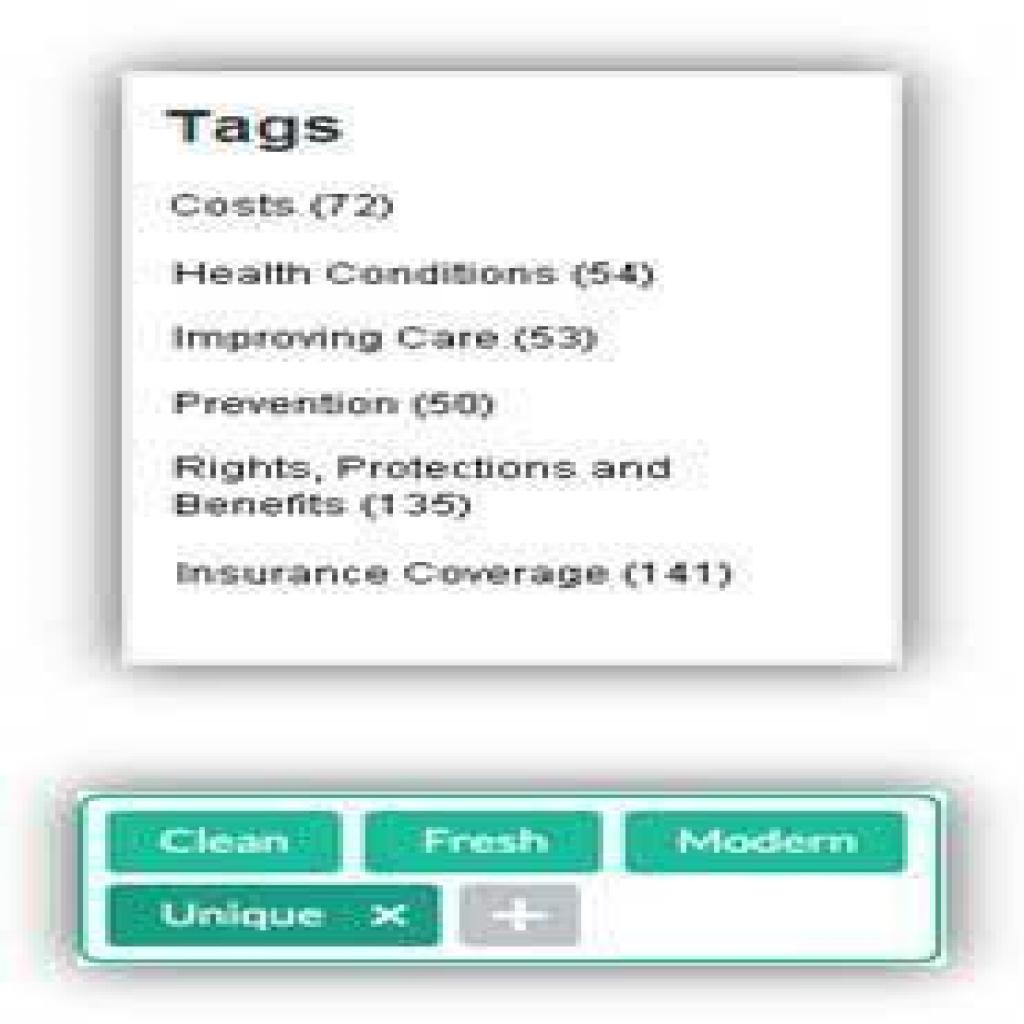button: (105, 882, 432, 943), (631, 811, 902, 872), (105, 808, 338, 869), (366, 811, 592, 872)
icon: (476, 888, 570, 940)
label: (160, 97, 360, 158)
